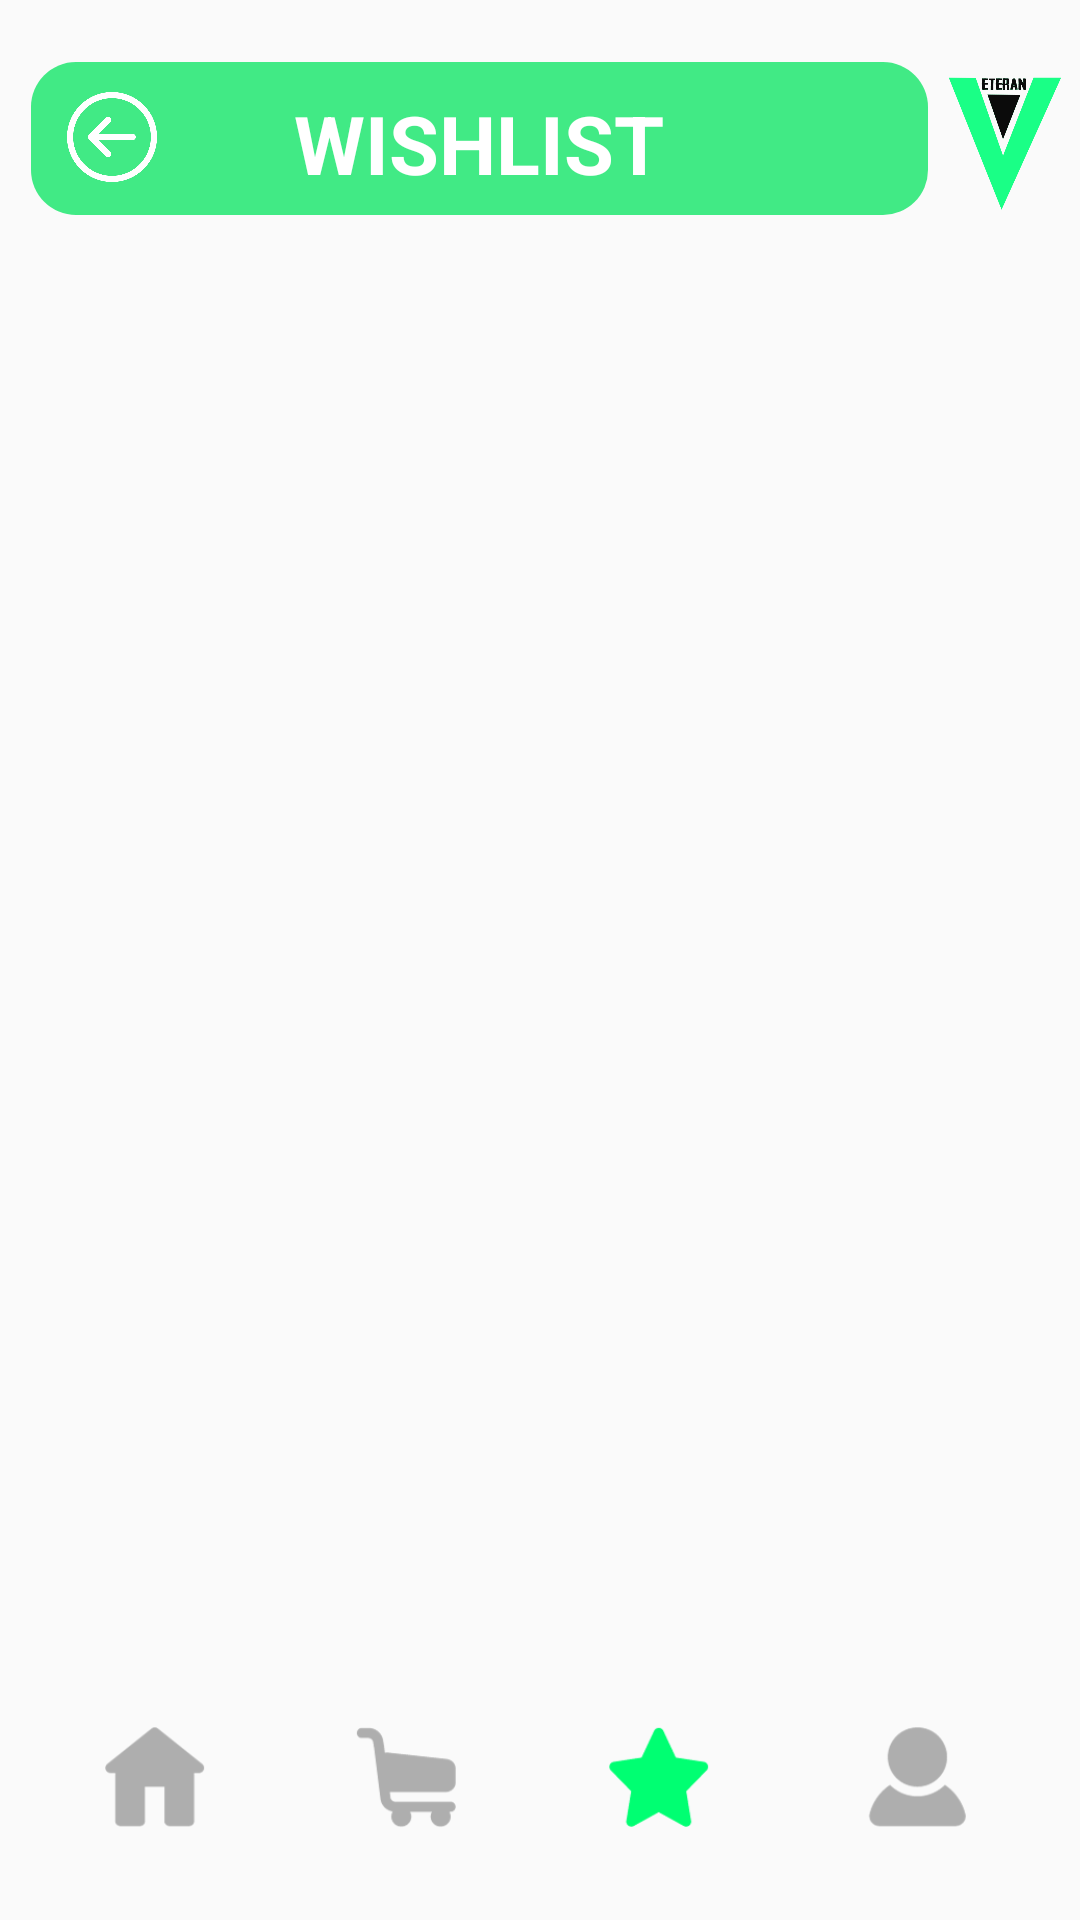

Icons on this 1080 x 1920 Android screen, each with its box as (x1, y1, x2, y2):
back: (67, 92, 157, 182)
cart: (357, 1728, 456, 1827)
homeblack: (105, 1727, 204, 1826)
profile: (869, 1727, 966, 1826)
star: (609, 1727, 709, 1827)
